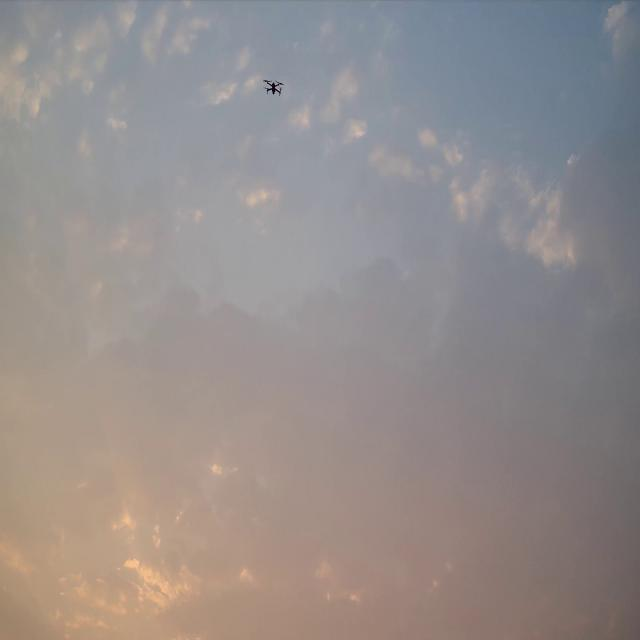drone: (262, 80, 284, 96)
